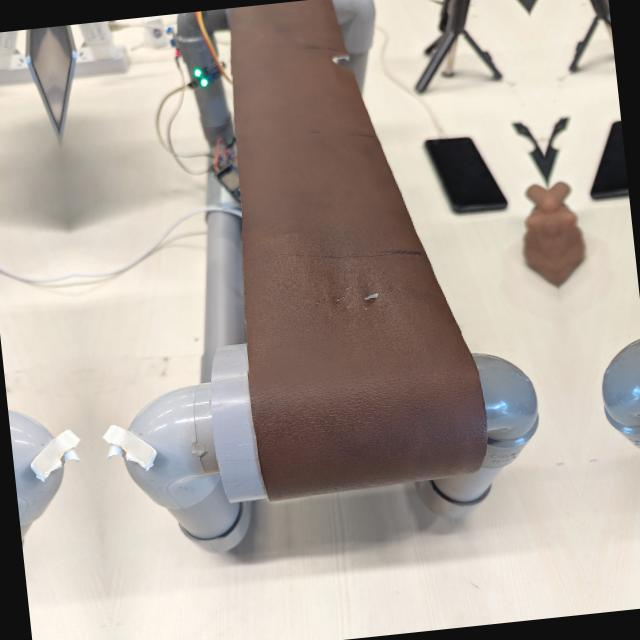belt_crack: (316, 259, 420, 324)
edge_damage: (328, 46, 360, 76)
